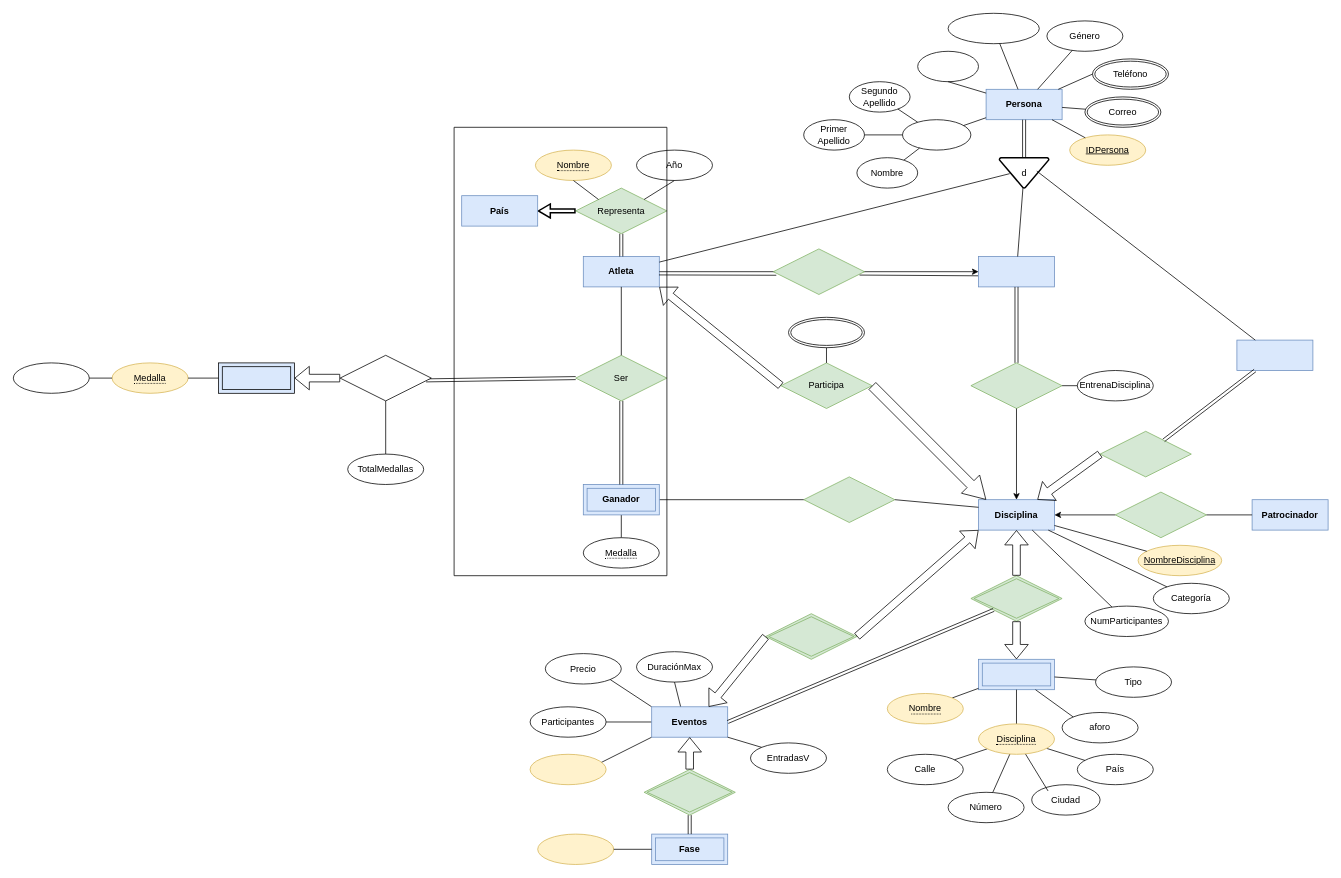
Some shapes in this 1341 by 878 pixel diagram are drawn without their labels. The shapes that lost their labels are listed below. From the top down, each one's box as (x1, y1, x2, y2) in pixels, then its label:
(947, 13, 1039, 44): FechaNacimiento
(917, 51, 978, 82): Nacionalidad
(902, 119, 971, 150): NombreComp
(773, 248, 864, 294): Entrenar
(978, 256, 1054, 287): Entrenador
(788, 317, 864, 348): JuegaDisciplina
(1236, 339, 1313, 370): Árbitro
(13, 362, 89, 393): TipoDeMedalla
(218, 362, 294, 393): Medallero Olímpico
(339, 355, 431, 401): Contabiliza
(970, 362, 1062, 408): Pertenece
(1099, 431, 1191, 477): Supervisa
(803, 476, 895, 522): Finalizar
(1115, 491, 1206, 538): Patrocina
(970, 575, 1062, 621): Ubicar
(765, 613, 857, 659): Esta
(978, 659, 1054, 690): Localidad
(529, 754, 606, 785): FechaEvento
(643, 769, 735, 815): Tiene
(537, 833, 614, 864): NumFase
